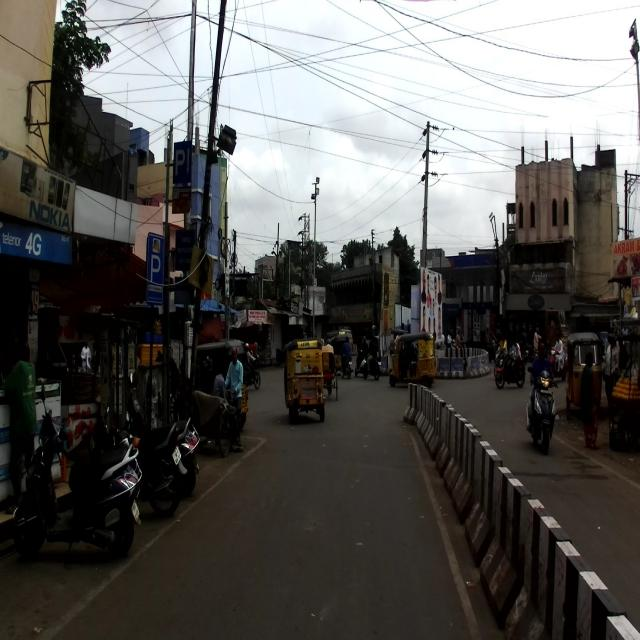autorickshaw: (193, 338, 249, 432)
motorcycle_Hero: (94, 396, 187, 522)
scooter: (11, 384, 141, 564), (128, 372, 200, 499), (526, 366, 561, 456)
